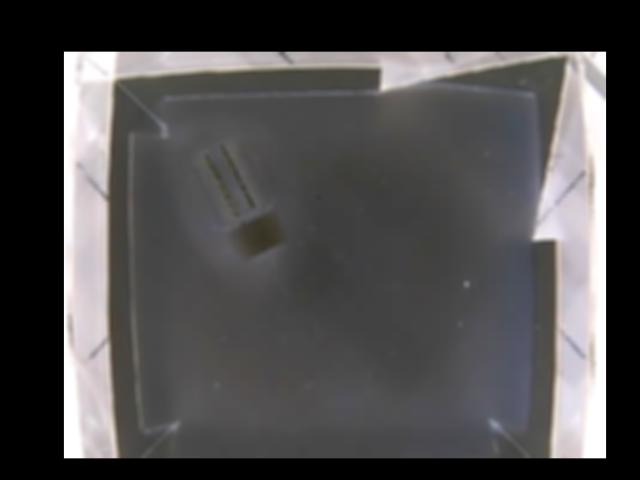Bottle: (191, 141, 287, 262)
